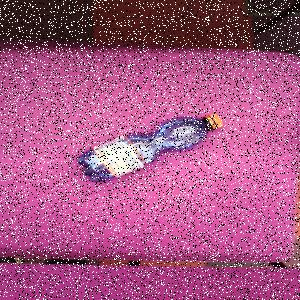Plastic-bottle: (75, 113, 227, 185)
